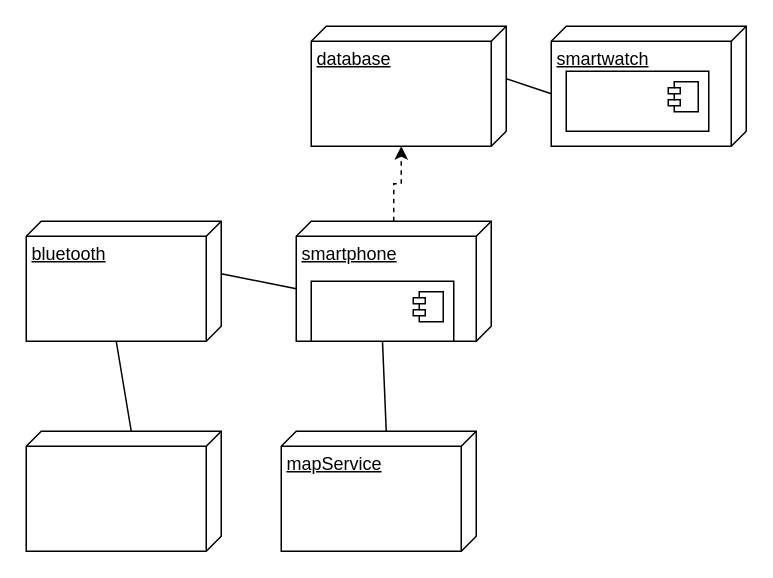
Some shapes in this 773 by 578 pixel diagram are drawn without their labels. Here are the shapes that lost their labels. From the top down, the centre of each, then its label:
the point at 637,100: activity
the point at 382,310: record
the point at 123,490: socialMedia
